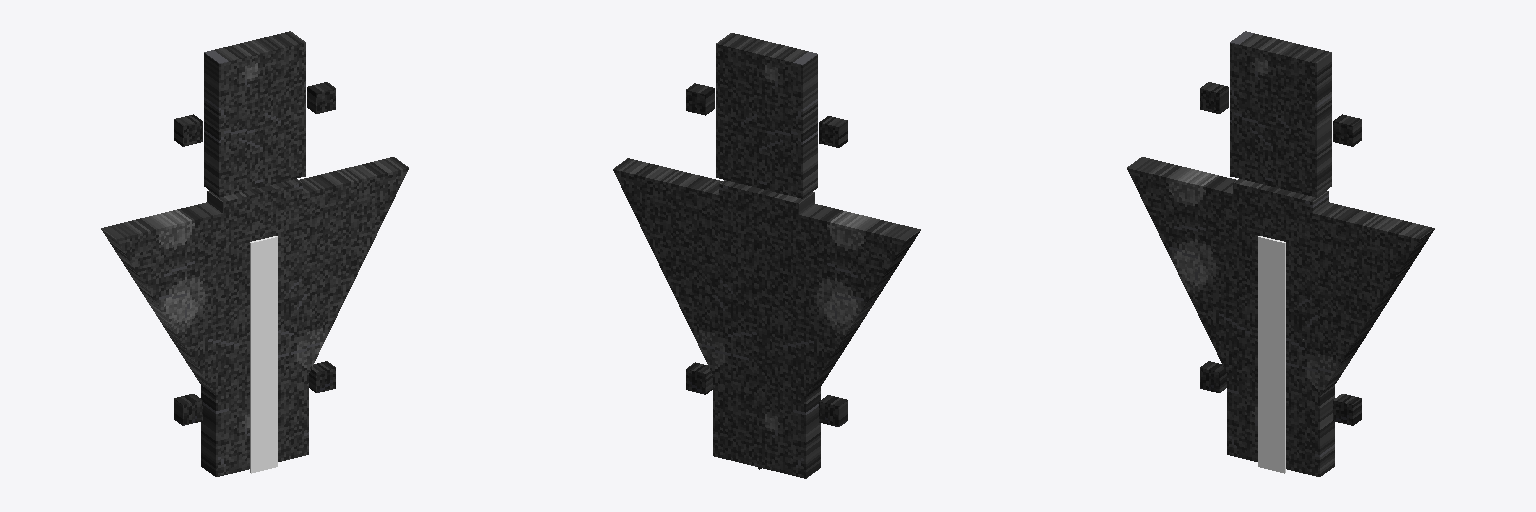
The picture shows the model from 3 angles: view 1: azimuth 30°, elevation 25°; view 2: azimuth 150°, elevation 25°; view 3: azimuth 330°, elevation 25°; orthographic projection.
Visible parts, largest first — view 1: ArrowStem, ArrowHead, ArrowGlow, ArrowBolts; view 2: ArrowStem, ArrowHead, ArrowBolts; view 3: ArrowHead, ArrowStem, ArrowGlow, ArrowBolts.
Boxes of the visible parts, <box> form: ArrowStem: <box>201,31,308,476</box>; ArrowHead: <box>101,157,408,417</box>; ArrowGlow: <box>250,236,277,473</box>; ArrowBolts: <box>174,82,335,425</box>; ArrowStem: <box>713,33,820,478</box>; ArrowHead: <box>613,158,920,469</box>; ArrowBolts: <box>686,83,847,426</box>; ArrowHead: <box>1127,157,1434,414</box>; ArrowStem: <box>1227,31,1334,476</box>; ArrowGlow: <box>1258,236,1285,473</box>; ArrowBolts: <box>1200,82,1361,425</box>.
Bounding box in the file's own units: 0.44 × 0.596 × 0.045.
Materials: 3 (2 with a texture image).